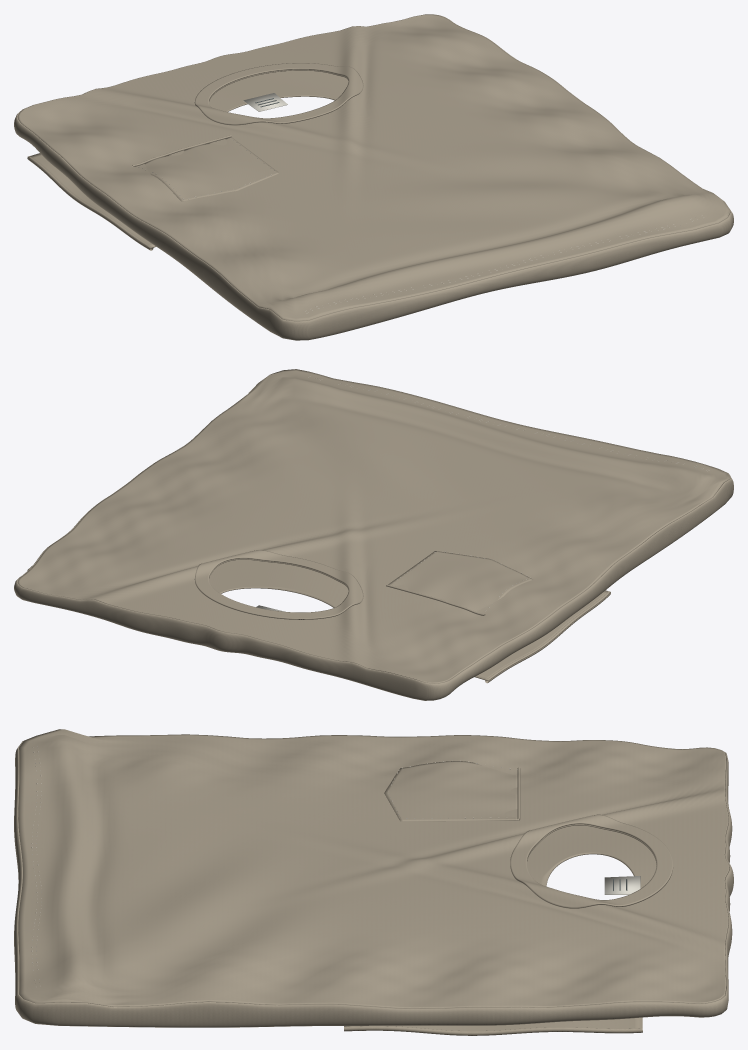
The model's file is TShirt_Folded_Realism_v02.glb.
3 renders of one model, top to bottom at view 1: azimuth 30°, elevation 25°; view 2: azimuth 150°, elevation 25°; view 3: azimuth 270°, elevation 25°, orthographic. The views are drawn at different scales.
Parts seen in each view (by area): view 1: FrontBody_ThinJersey, SoftSewnSideReturn, ChestPocket_ThinCloth, BackBody_ThinJersey, Collar_FlatRibKnitBinding, Left_SleeveFoldedUnder, Sleeve_CuffFold; view 2: FrontBody_ThinJersey, SoftSewnSideReturn, ChestPocket_ThinCloth, BackBody_ThinJersey, Collar_FlatRibKnitBinding, Left_SleeveFoldedUnder, Sleeve_CuffFold; view 3: FrontBody_ThinJersey, SoftSewnSideReturn, ChestPocket_ThinCloth, Collar_FlatRibKnitBinding, BackBody_ThinJersey, Sleeve_CuffFold.001, Right_SleeveFoldedUnder, NeckLabel_Cloth.
Part boxes in pixels (box(x1,y1,x2,y2)): FrontBody_ThinJersey: box(17, 14, 730, 321); SoftSewnSideReturn: box(14, 14, 733, 340); ChestPocket_ThinCloth: box(144, 137, 279, 201); BackBody_ThinJersey: box(209, 70, 348, 111); Collar_FlatRibKnitBinding: box(194, 63, 363, 125); Left_SleeveFoldedUnder: box(27, 153, 155, 248); Sleeve_CuffFold: box(27, 156, 153, 250); FrontBody_ThinJersey: box(18, 369, 730, 683); SoftSewnSideReturn: box(14, 383, 733, 700); ChestPocket_ThinCloth: box(388, 551, 532, 611); BackBody_ThinJersey: box(209, 559, 348, 607); Collar_FlatRibKnitBinding: box(194, 550, 363, 619); Left_SleeveFoldedUnder: box(474, 590, 610, 680); Sleeve_CuffFold: box(485, 591, 610, 683); FrontBody_ThinJersey: box(18, 729, 729, 1008); SoftSewnSideReturn: box(14, 740, 733, 1027); ChestPocket_ThinCloth: box(384, 761, 518, 821); Collar_FlatRibKnitBinding: box(510, 814, 673, 908); BackBody_ThinJersey: box(527, 825, 656, 888); Sleeve_CuffFold.001: box(344, 1026, 642, 1035); Right_SleeveFoldedUnder: box(344, 1017, 642, 1030); NeckLabel_Cloth: box(604, 876, 640, 894).
Size of the model in its own units: 9.11 by 0.632 by 9.89.
Materials: 5 (2 with a texture image).
